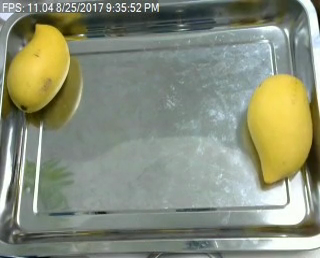Mango: (237, 70, 315, 180), (0, 15, 82, 119)
